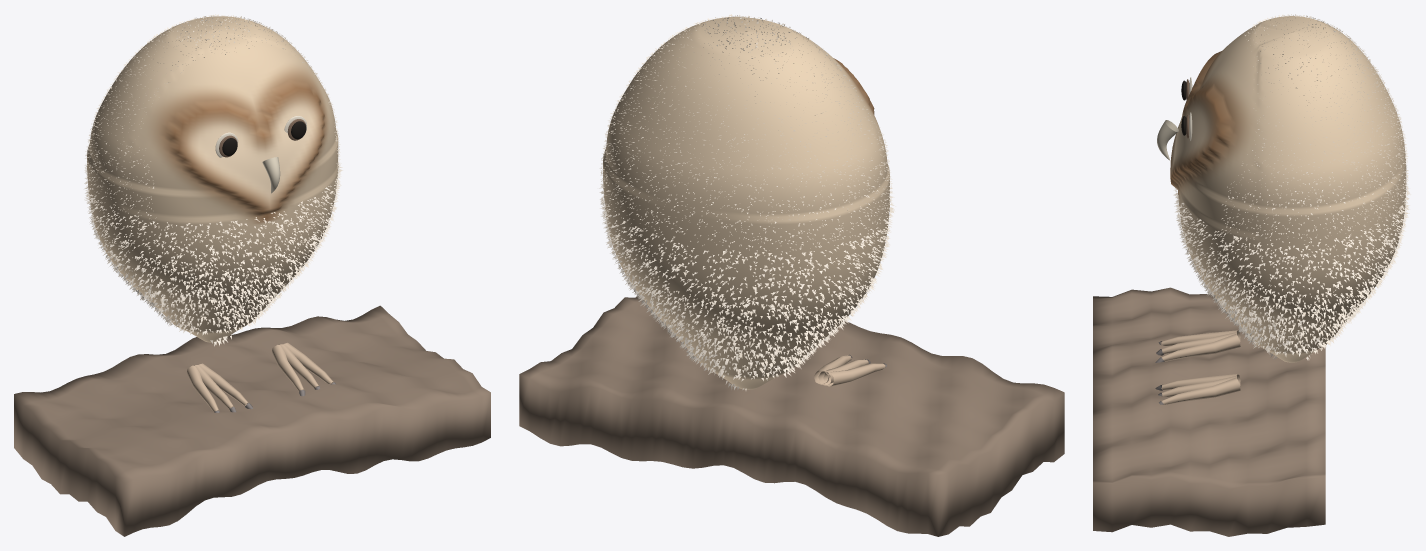
Rendered from owl172_run84_organic_integrated_face_ART_PENDING.glb.
3 renders of one model, left to right at view 1: azimuth 30°, elevation 25°; view 2: azimuth 150°, elevation 25°; view 3: azimuth 270°, elevation 25°, orthographic. The views are drawn at different scales.
Visible parts, largest first — view 1: solid eroded mature eucalyptus hollow ledge, one continuous organic juvenile loft, curved second-down filament batch 0, curved second-down filament batch 1, curved second-down filament batch 3, curved second-down filament batch 4, curved second-down filament batch 2; view 2: one continuous organic juvenile loft, solid eroded mature eucalyptus hollow ledge, curved second-down filament batch 0, curved second-down filament batch 3, curved second-down filament batch 4, curved second-down filament batch 1, curved second-down filament batch 2, short juvenile toe -1_0; view 3: one continuous organic juvenile loft, solid eroded mature eucalyptus hollow ledge, curved second-down filament batch 0, curved second-down filament batch 3, curved second-down filament batch 4, curved second-down filament batch 2, curved second-down filament batch 1, short juvenile toe -1_2, short juvenile toe 1_2, short juvenile toe 1_0, short juvenile toe -1_0, curved ivory hooked beak (+2 smaller).
Part boxes in pixels (box(x1,y1,x2,y2)): solid eroded mature eucalyptus hollow ledge: box(14, 305, 490, 536); one continuous organic juvenile loft: box(87, 16, 338, 342); curved second-down filament batch 0: box(84, 15, 342, 334); curved second-down filament batch 1: box(84, 15, 342, 343); curved second-down filament batch 3: box(84, 14, 342, 344); curved second-down filament batch 4: box(85, 14, 341, 342); curved second-down filament batch 2: box(84, 15, 340, 346); one continuous organic juvenile loft: box(603, 16, 890, 389); solid eroded mature eucalyptus hollow ledge: box(519, 294, 1064, 536); curved second-down filament batch 0: box(601, 16, 895, 389); curved second-down filament batch 3: box(600, 14, 894, 390); curved second-down filament batch 4: box(599, 15, 894, 387); curved second-down filament batch 1: box(599, 15, 893, 389); curved second-down filament batch 2: box(599, 15, 894, 389); short juvenile toe -1_0: box(823, 363, 885, 386); one continuous organic juvenile loft: box(1170, 16, 1406, 362); solid eroded mature eucalyptus hollow ledge: box(1093, 287, 1325, 536); curved second-down filament batch 0: box(1174, 14, 1410, 355); curved second-down filament batch 3: box(1173, 15, 1409, 360); curved second-down filament batch 4: box(1174, 15, 1409, 360); curved second-down filament batch 2: box(1175, 14, 1408, 357); curved second-down filament batch 1: box(1175, 14, 1409, 359); short juvenile toe -1_2: box(1162, 334, 1240, 361); short juvenile toe 1_2: box(1162, 377, 1240, 404); short juvenile toe 1_0: box(1162, 374, 1240, 389); short juvenile toe -1_0: box(1162, 330, 1240, 345); curved ivory hooked beak: box(1157, 120, 1178, 160).
Size of the model in its own units: 2.24 by 2.33 by 1.6.
